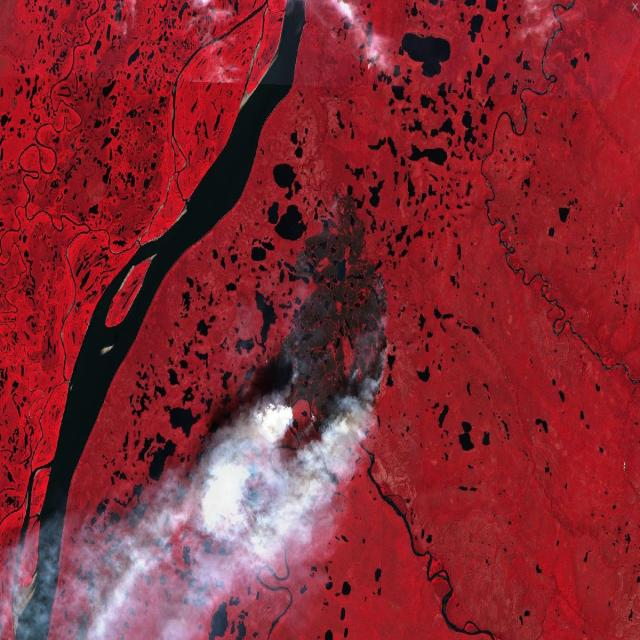fire: (256, 240, 392, 443)
